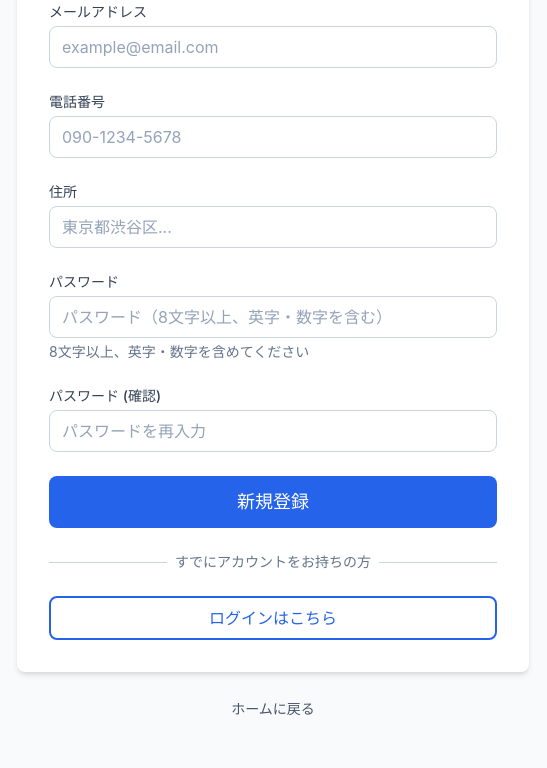
RegisterPage › 必須フィールドが空の場合エラーが表示される
The width and height of the screenshot is (547, 768).
(page scrolled)
Step 1. Click the button "新規登録" → (273, 502), box [49,476,497,528]
(page scrolled)
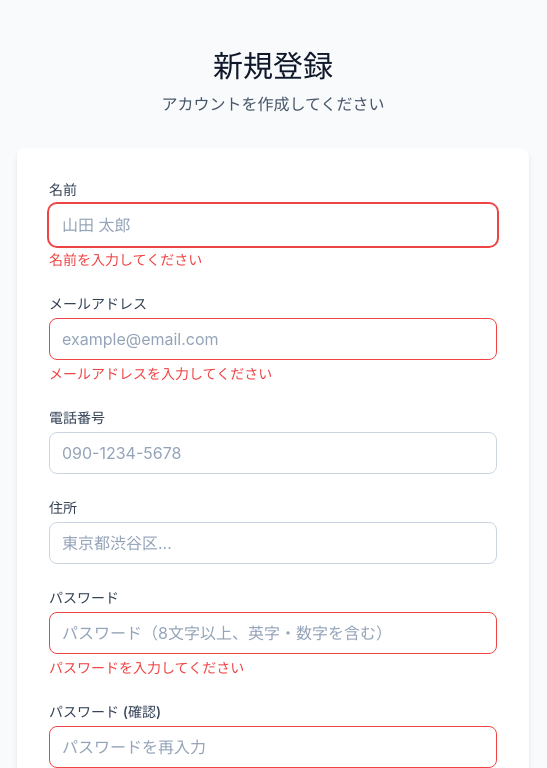
Now the text "名前を入力してください" is shown, box [49,251,202,268]
Now the text "メールアドレスを入力してください" is shown, box [49,365,272,382]
Now the text "パスワードを入力してください" is shown, box [49,659,244,676]
